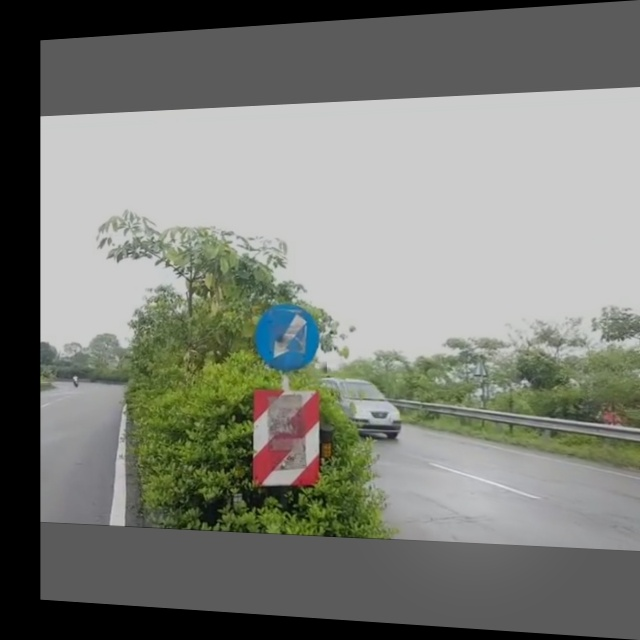Compulsory_Keep_Left: (249, 297, 327, 376)
